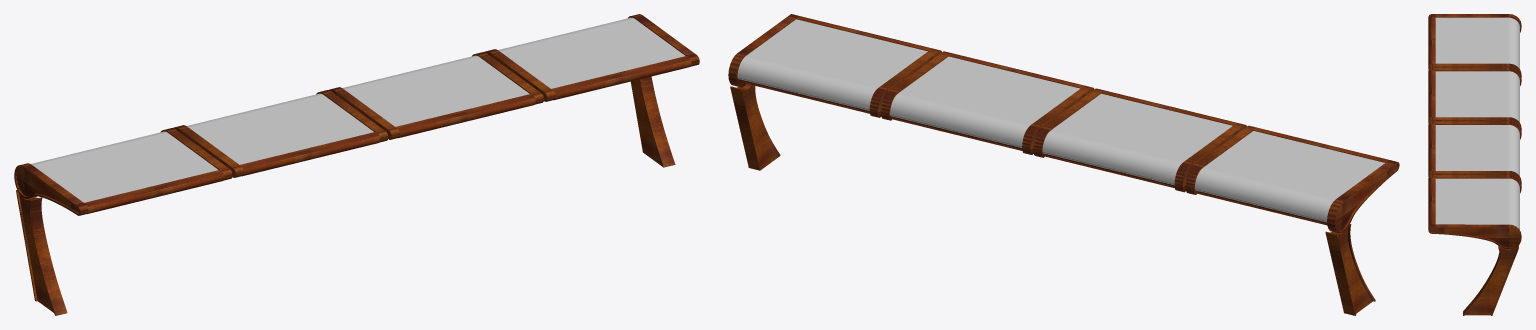
The picture shows the model from 3 angles, left to right: view 1: azimuth 30°, elevation 25°; view 2: azimuth 150°, elevation 25°; view 3: azimuth 270°, elevation 25°; orthographic projection. The views are drawn at different scales.
Parts seen in each view (by area): view 1: mesh5_mesh5-geometry, mesh10_mesh10-geometry, mesh14_mesh14-geometry, mesh4_mesh4-geometry, mesh6_mesh6-geometry, mesh2_mesh2-geometry, mesh1_mesh1-geometry, mesh8_mesh8-geometry, mesh9_mesh9-geometry, mesh15_mesh15-geometry, mesh13_mesh13-geometry, mesh11_mesh11-geometry; view 2: mesh5_mesh5-geometry, mesh10_mesh10-geometry, mesh14_mesh14-geometry, mesh6_mesh6-geometry, mesh1_mesh1-geometry, mesh2_mesh2-geometry, mesh4_mesh4-geometry, mesh8_mesh8-geometry, mesh3_mesh3-geometry, mesh15_mesh15-geometry, mesh13_mesh13-geometry, mesh11_mesh11-geometry (+1 smaller); view 3: mesh5_mesh5-geometry, mesh10_mesh10-geometry, mesh14_mesh14-geometry, mesh6_mesh6-geometry, mesh1_mesh1-geometry, mesh13_mesh13-geometry, mesh4_mesh4-geometry, mesh11_mesh11-geometry, mesh15_mesh15-geometry, mesh8_mesh8-geometry, mesh9_mesh9-geometry.
Part boxes in pixels (x1,y1,x2,y2): mesh5_mesh5-geometry: (187,55,529,164); mesh10_mesh10-geometry: (31,131,217,202); mesh14_mesh14-geometry: (498,17,685,88); mesh4_mesh4-geometry: (240,56,691,176); mesh6_mesh6-geometry: (173,52,543,177); mesh2_mesh2-geometry: (16,190,67,315); mesh1_mesh1-geometry: (631,76,675,167); mesh8_mesh8-geometry: (14,163,88,215); mesh9_mesh9-geometry: (84,170,224,213); mesh15_mesh15-geometry: (485,49,555,101); mesh13_mesh13-geometry: (628,14,699,66); mesh11_mesh11-geometry: (160,128,232,180); mesh5_mesh5-geometry: (890,56,1232,185); mesh10_mesh10-geometry: (1195,131,1384,222); mesh14_mesh14-geometry: (737,19,927,110); mesh6_mesh6-geometry: (881,51,1246,192); mesh1_mesh1-geometry: (730,84,780,170); mesh2_mesh2-geometry: (1325,224,1375,315); mesh4_mesh4-geometry: (796,16,1236,125); mesh8_mesh8-geometry: (1327,160,1399,233); mesh3_mesh3-geometry: (745,80,1327,225); mesh15_mesh15-geometry: (869,48,941,117); mesh13_mesh13-geometry: (728,14,798,87); mesh11_mesh11-geometry: (1185,125,1256,194); mesh5_mesh5-geometry: (1435,71,1519,175); mesh10_mesh10-geometry: (1435,17,1519,68); mesh14_mesh14-geometry: (1435,178,1519,229); mesh6_mesh6-geometry: (1428,67,1521,184); mesh1_mesh1-geometry: (1463,245,1518,315); mesh13_mesh13-geometry: (1428,224,1521,249); mesh4_mesh4-geometry: (1428,70,1435,226); mesh11_mesh11-geometry: (1428,63,1521,77); mesh15_mesh15-geometry: (1428,175,1521,193); mesh8_mesh8-geometry: (1428,14,1521,32); mesh9_mesh9-geometry: (1428,17,1435,66).
Bounding box in the file's own units: 0.966 × 0.1872 × 0.1781.
